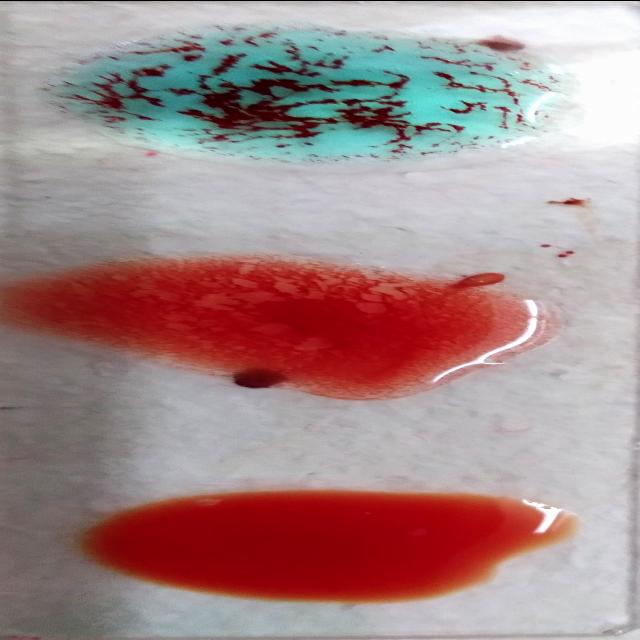A: (31, 19, 570, 170)
D: (27, 252, 553, 388)
